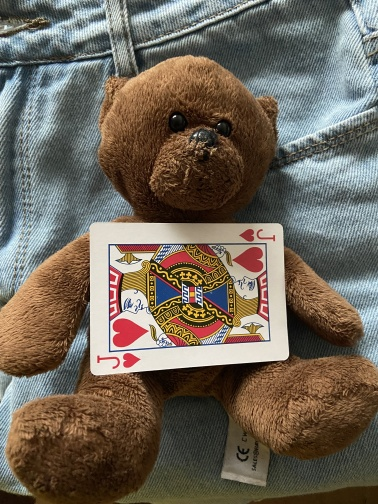jack: (88, 221, 291, 377)
